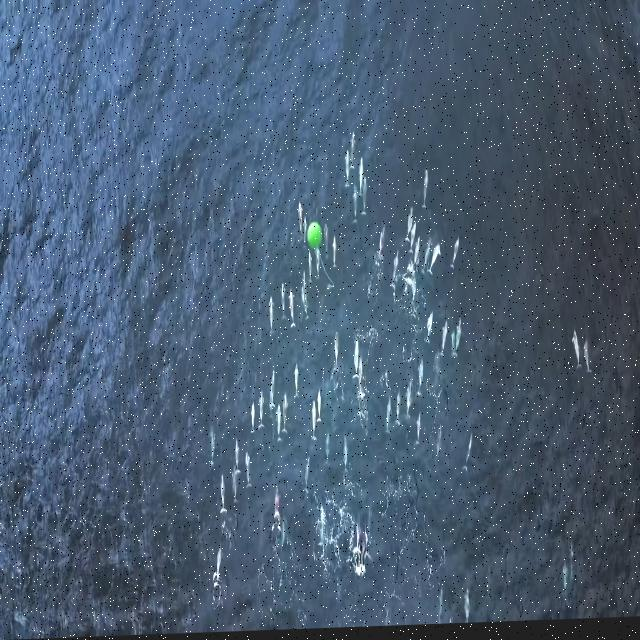balloon: (308, 224, 324, 253)
